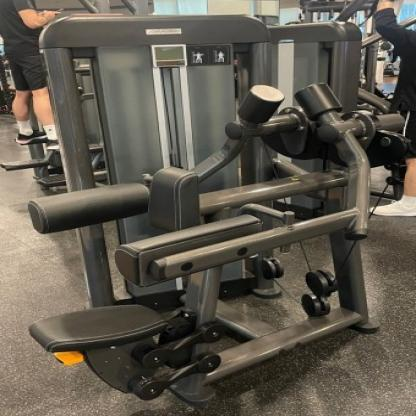lateral raises machine: (31, 86, 404, 407)
